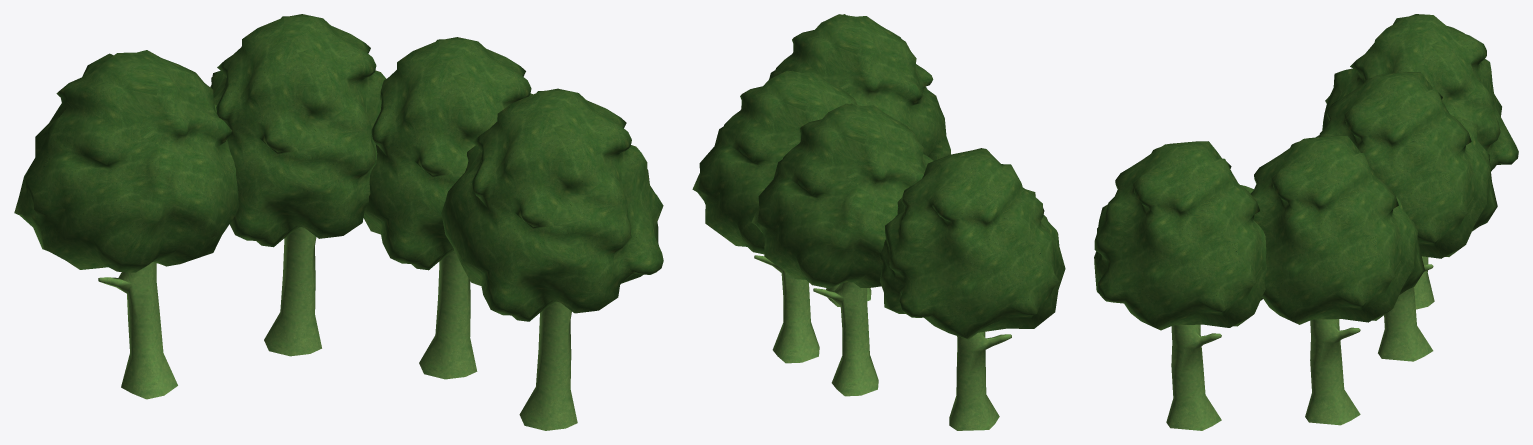
File: SM_ENV_KNFRST_DistanceTreeE_GroupA.FBX
3 renders of one model, left to right at view 1: azimuth 30°, elevation 25°; view 2: azimuth 150°, elevation 25°; view 3: azimuth 270°, elevation 25°, orthographic. The views are drawn at different scales.
Parts seen in each view (by area): view 1: SM_ENV_KNFRST_DistanceTreeE_GroupA; view 2: SM_ENV_KNFRST_DistanceTreeE_GroupA; view 3: SM_ENV_KNFRST_DistanceTreeE_GroupA.
Boxes of the visible parts, left/top/right/bottom form: SM_ENV_KNFRST_DistanceTreeE_GroupA: left=14, top=14, right=663, bottom=430; SM_ENV_KNFRST_DistanceTreeE_GroupA: left=692, top=14, right=1065, bottom=430; SM_ENV_KNFRST_DistanceTreeE_GroupA: left=1094, top=14, right=1518, bottom=430.
Bounding box in the file's own units: 15511 × 10505 × 13657.
